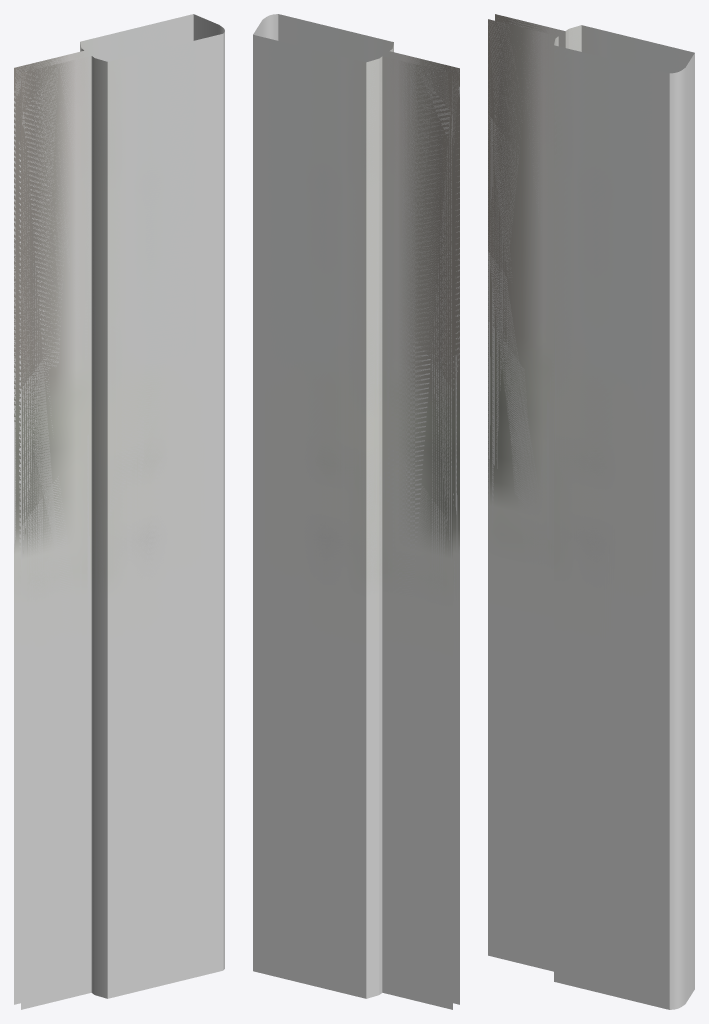
The model's file is original-44.obj.
3 views of the same model, side by side, from view 1: azimuth 30°, elevation 25°; view 2: azimuth 150°, elevation 25°; view 3: azimuth 330°, elevation 25° (orthographic).
Parts seen in each view (by area): view 1: RT_11_CR1/RT_11_CR/mesh35/mesh35-geometry#mesh35-geometry; view 2: RT_11_CR1/RT_11_CR/mesh35/mesh35-geometry#mesh35-geometry; view 3: RT_11_CR1/RT_11_CR/mesh35/mesh35-geometry#mesh35-geometry.
Boxes of the visible parts, bbox=[...] form: RT_11_CR1/RT_11_CR/mesh35/mesh35-geometry#mesh35-geometry: bbox=[14, 14, 224, 1009]; RT_11_CR1/RT_11_CR/mesh35/mesh35-geometry#mesh35-geometry: bbox=[253, 14, 459, 1009]; RT_11_CR1/RT_11_CR/mesh35/mesh35-geometry#mesh35-geometry: bbox=[488, 14, 694, 1009].
Size of the model in its own units: 0.1302 by 0.5887 by 0.0314.
